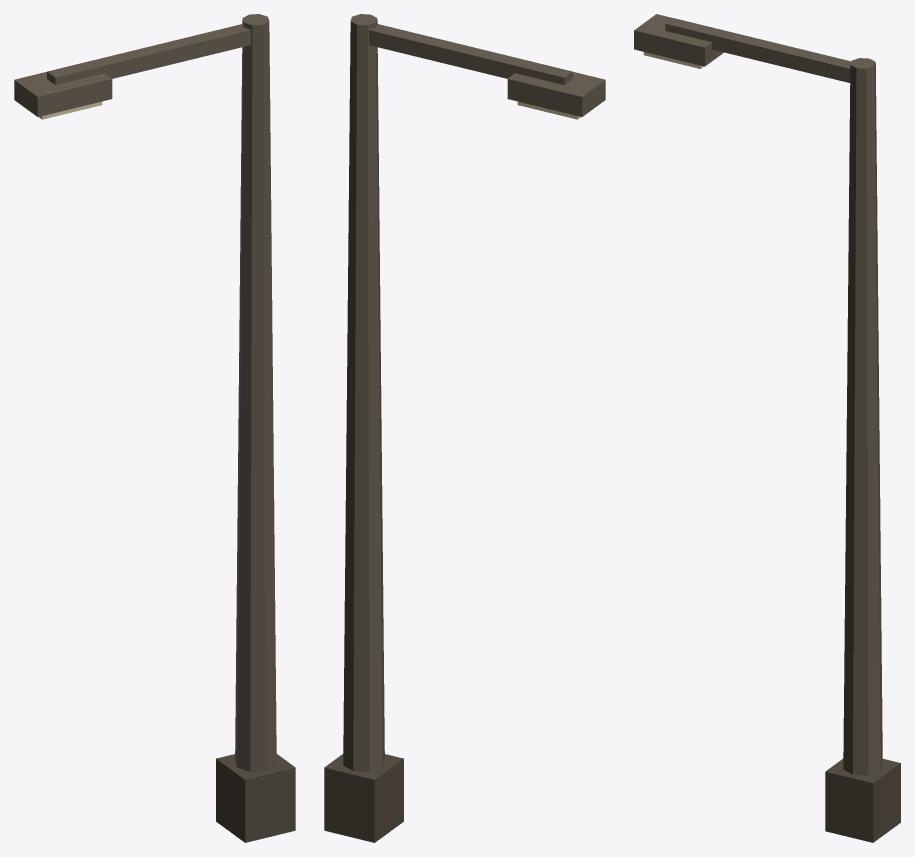
Rendered from ds_trk_lamppost.glb.
3 renders of one model, left to right at view 1: azimuth 30°, elevation 25°; view 2: azimuth 150°, elevation 25°; view 3: azimuth 330°, elevation 25°, orthographic. The views are drawn at different scales.
Parts seen in each view (by area): view 1: ds_trk_lamppost; view 2: ds_trk_lamppost; view 3: ds_trk_lamppost.
Boxes of the visible parts, x1,y1,x2,y2 form: ds_trk_lamppost: (14,14,295,842); ds_trk_lamppost: (324,14,605,842); ds_trk_lamppost: (634,14,900,842).
Size of the model in its own units: 2.12 by 6.4 by 0.4203.
